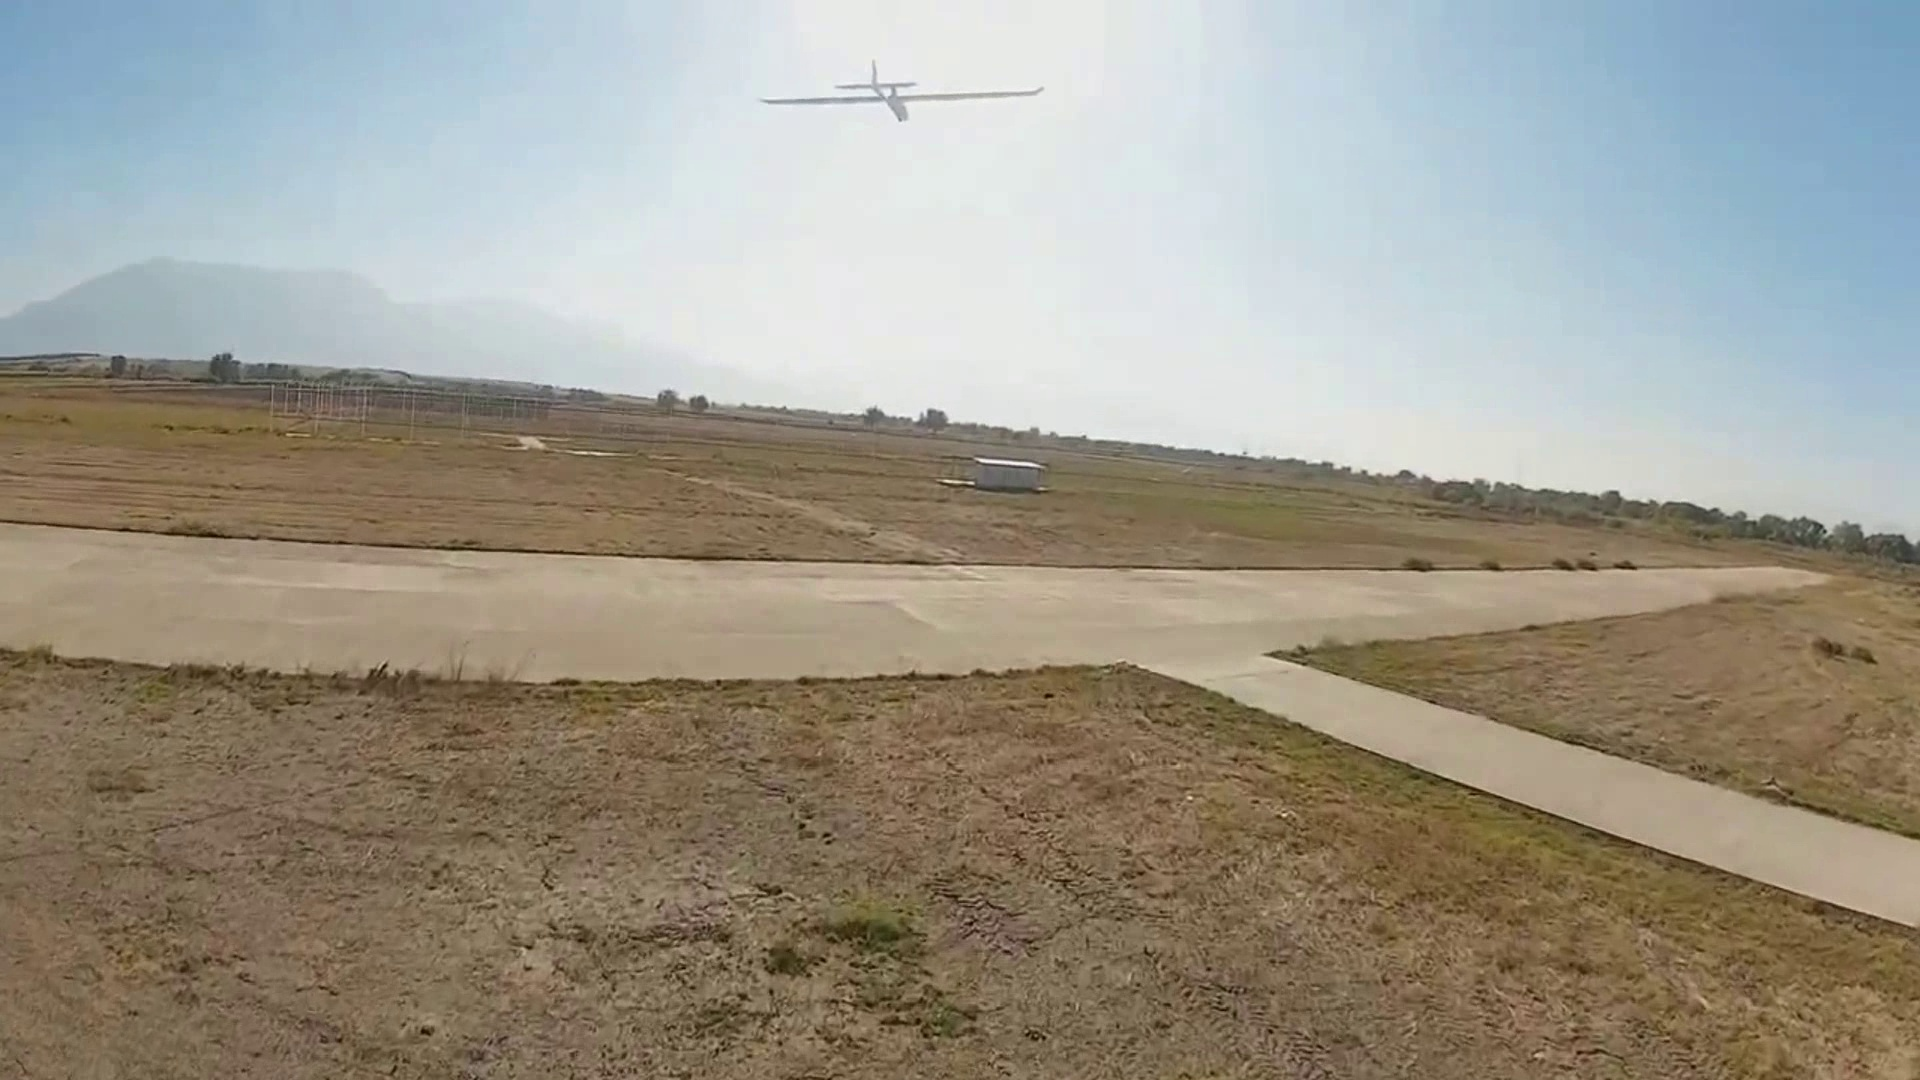airplane: (754, 62, 1050, 123)
